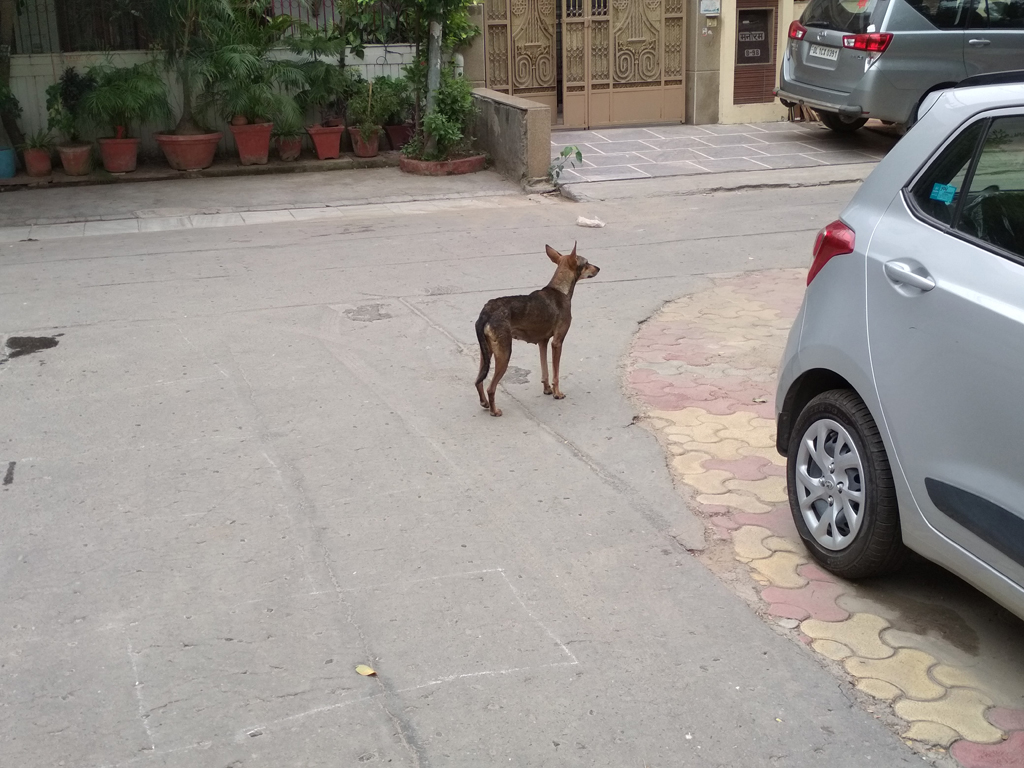dog: (473, 240, 603, 417)
